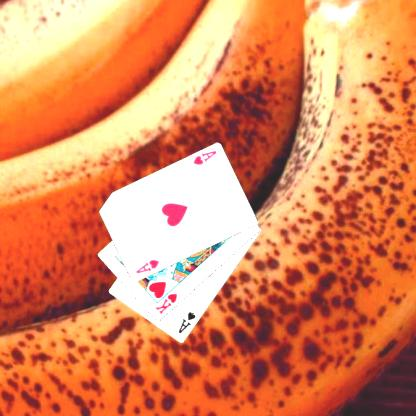AH: (190, 148, 218, 167), (134, 257, 160, 275)
AS: (175, 309, 197, 335)
KH: (152, 291, 178, 316)
